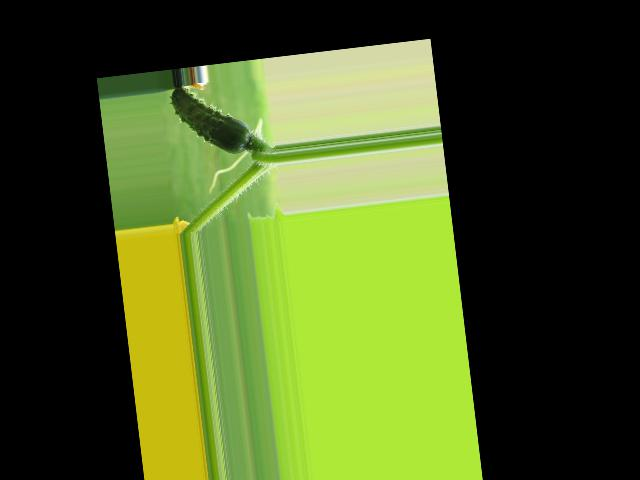cucumber: (169, 80, 252, 162)
